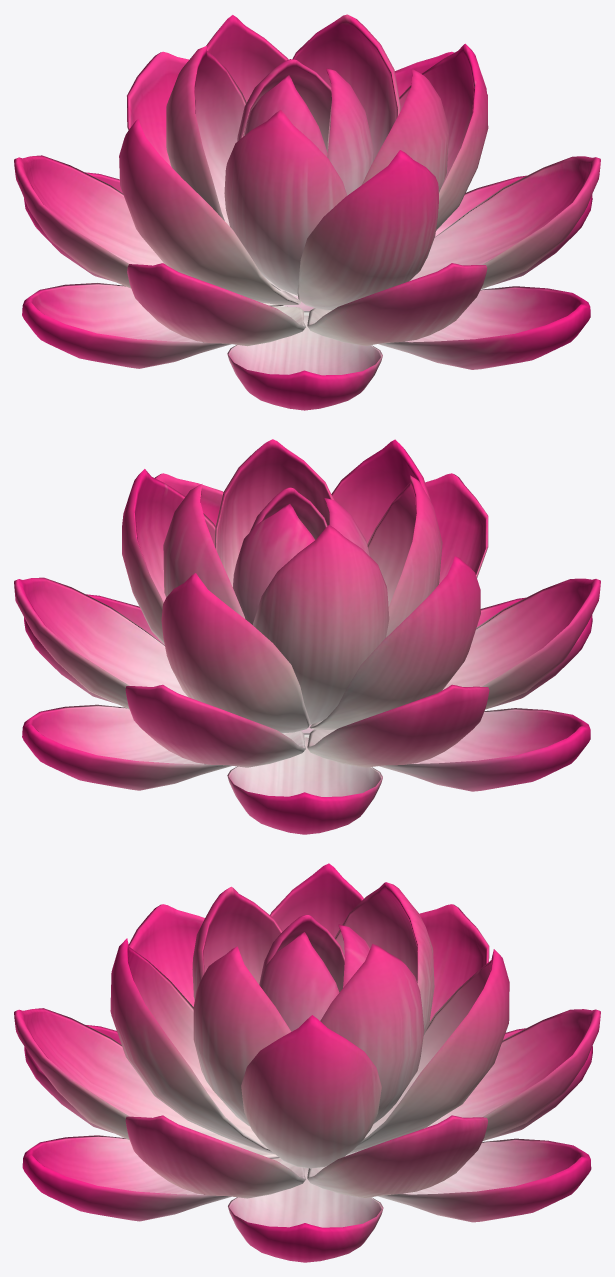
File: flower.glb
3 views of the same model, one above another, from view 1: azimuth 30°, elevation 25°; view 2: azimuth 150°, elevation 25°; view 3: azimuth 270°, elevation 25° (orthographic).
Visible parts, largest first — view 1: Lillypad2; view 2: Lillypad2; view 3: Lillypad2.
Part boxes in pixels (left/top/right/bottom): Lillypad2: left=14, top=14, right=600, bottom=410; Lillypad2: left=14, top=439, right=600, bottom=834; Lillypad2: left=14, top=863, right=600, bottom=1262.
Bounding box in the file's own units: 0.486 × 0.2148 × 0.442.
1 material, 1 textured.
